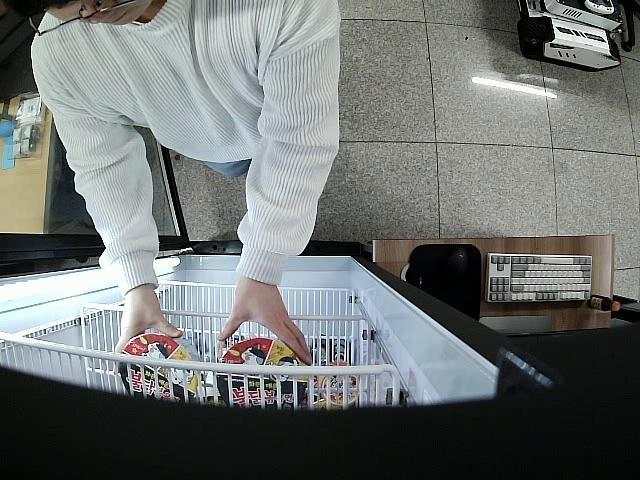07_buldak_L: (218, 338, 310, 414), (116, 328, 203, 404)
